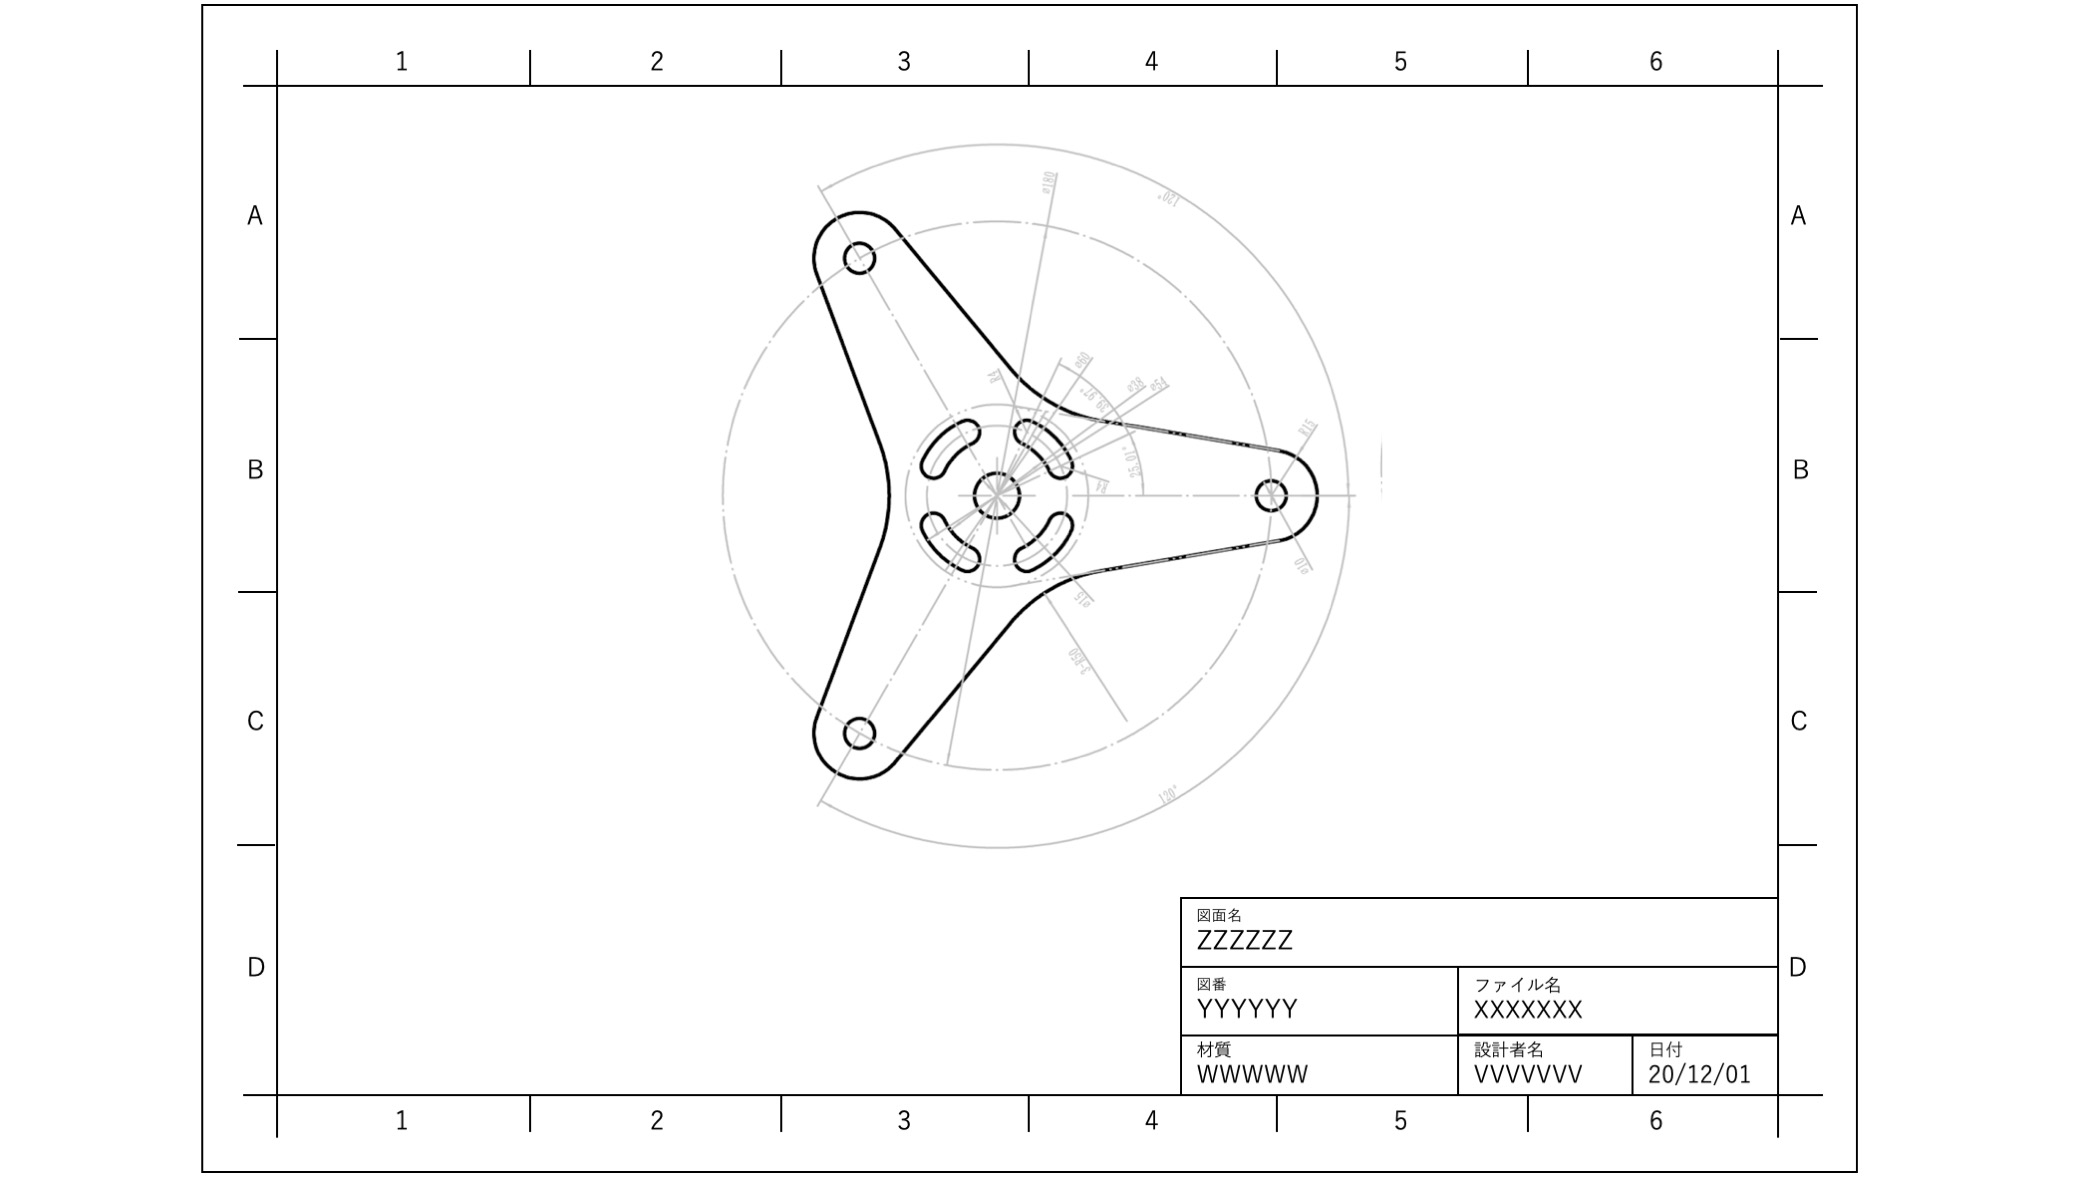circle: (963, 467, 1030, 521), (842, 707, 883, 753), (1250, 472, 1294, 510), (844, 231, 877, 275)
round_rectangle: (914, 417, 988, 477), (914, 509, 979, 577), (1011, 508, 1080, 570), (1011, 415, 1080, 476)
